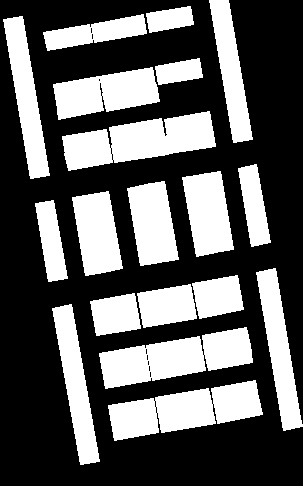parkingspot: (52, 304, 99, 464), (3, 16, 49, 178), (256, 268, 302, 430), (209, 0, 252, 142), (182, 174, 216, 256), (144, 181, 178, 262), (200, 171, 233, 252), (127, 184, 160, 265), (238, 164, 270, 246), (35, 200, 67, 281), (90, 191, 122, 272), (72, 194, 104, 275), (158, 404, 215, 432), (149, 352, 205, 380), (91, 14, 146, 42), (109, 118, 164, 146), (102, 84, 159, 111), (155, 388, 212, 415), (99, 67, 155, 94), (140, 300, 196, 327), (146, 336, 202, 363), (111, 136, 168, 162), (137, 284, 193, 310), (214, 396, 262, 423), (43, 24, 92, 50), (192, 275, 240, 301), (195, 292, 243, 318), (99, 345, 147, 371), (102, 362, 150, 388), (202, 327, 250, 353), (204, 344, 252, 370), (108, 398, 156, 424), (166, 128, 215, 153), (146, 6, 193, 32), (53, 76, 100, 102), (56, 93, 103, 119), (155, 58, 202, 84), (211, 380, 258, 406), (111, 414, 158, 440), (64, 145, 112, 170), (164, 111, 212, 136), (62, 129, 109, 154), (90, 293, 137, 318), (93, 310, 140, 335)
